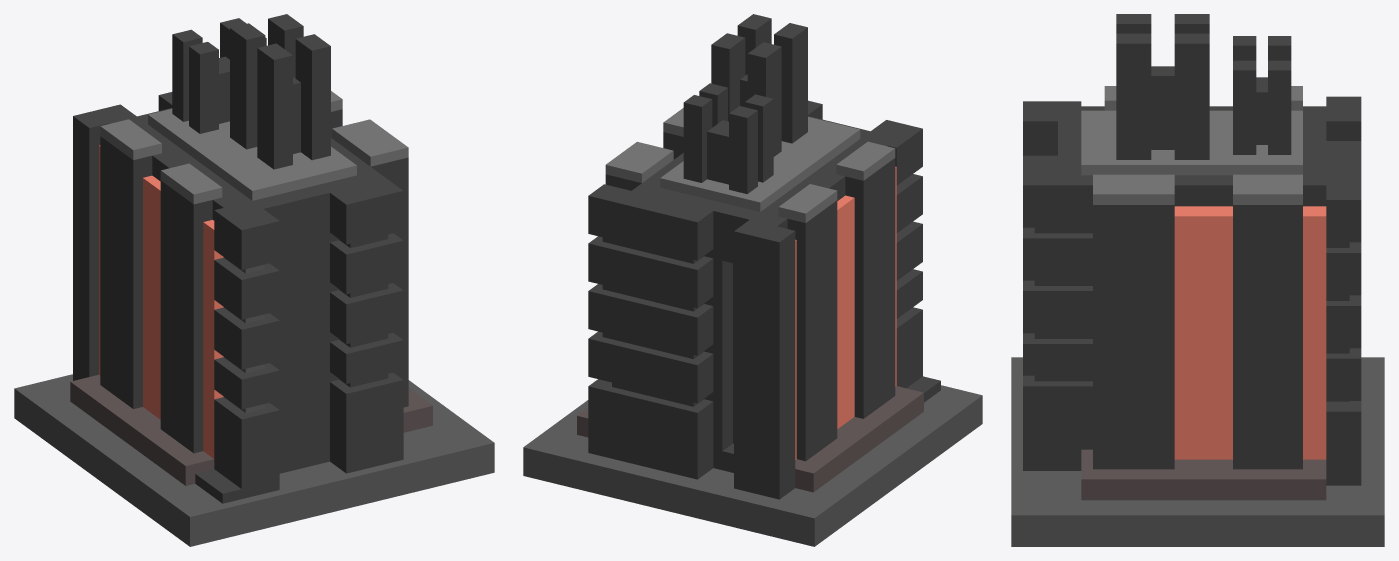
The model's file is _g_factory.obj.
3 views of the same model, side by side, from view 1: azimuth 30°, elevation 25°; view 2: azimuth 150°, elevation 25°; view 3: azimuth 270°, elevation 25° (orthographic). The views are drawn at different scales.
Size of the model in its own units: 3.2 by 4.2 by 3.2.
